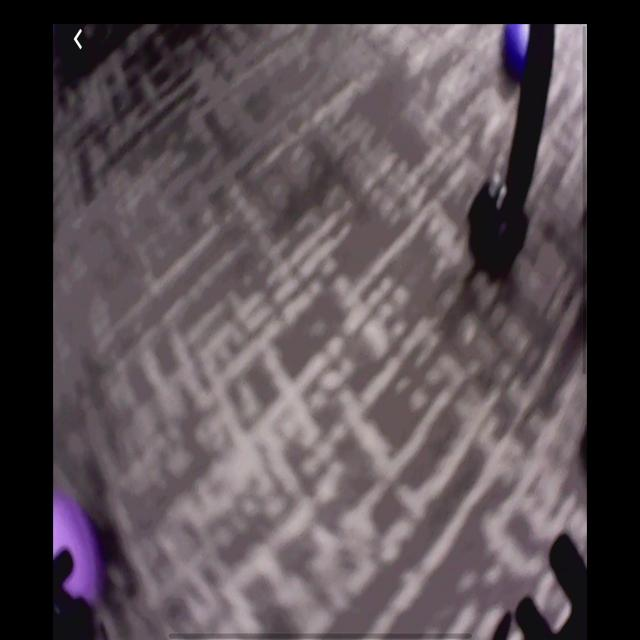ball: (56, 483, 102, 623), (505, 23, 535, 73)
